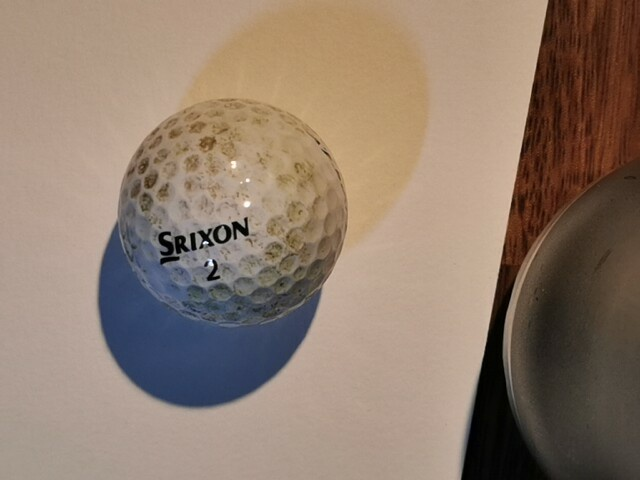Ball: (117, 98, 348, 328)
Srixon: (158, 216, 249, 265)
